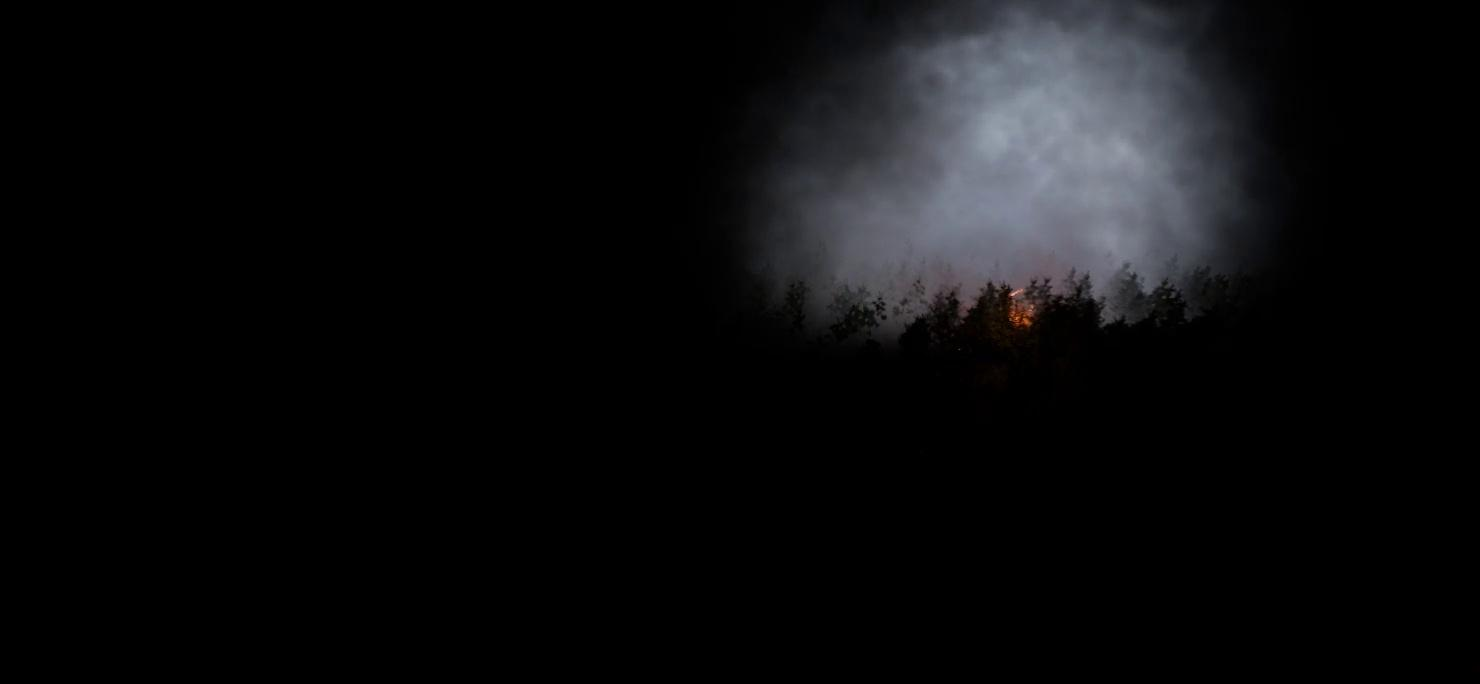fire: (989, 289, 1039, 327)
smoke: (744, 0, 1269, 332)
